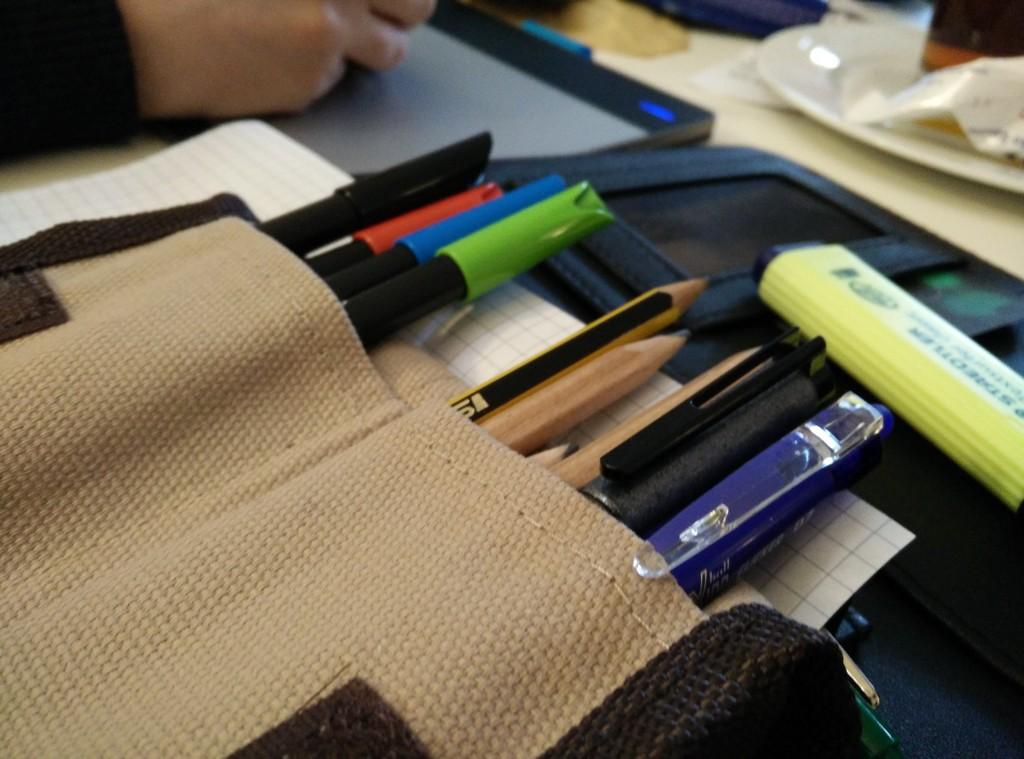pen: (253, 130, 620, 353), (636, 379, 904, 601), (572, 334, 844, 543)
